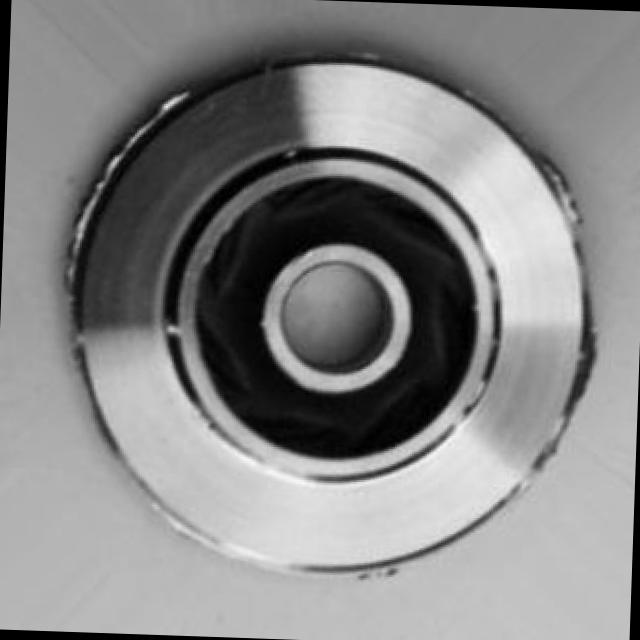Defect: (536, 148, 588, 202)
